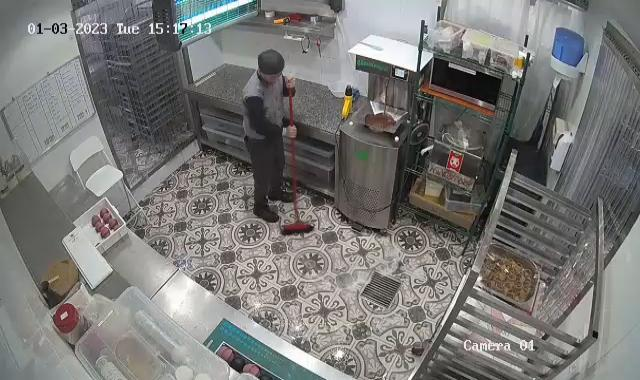no_hairnet: (254, 50, 286, 81)
